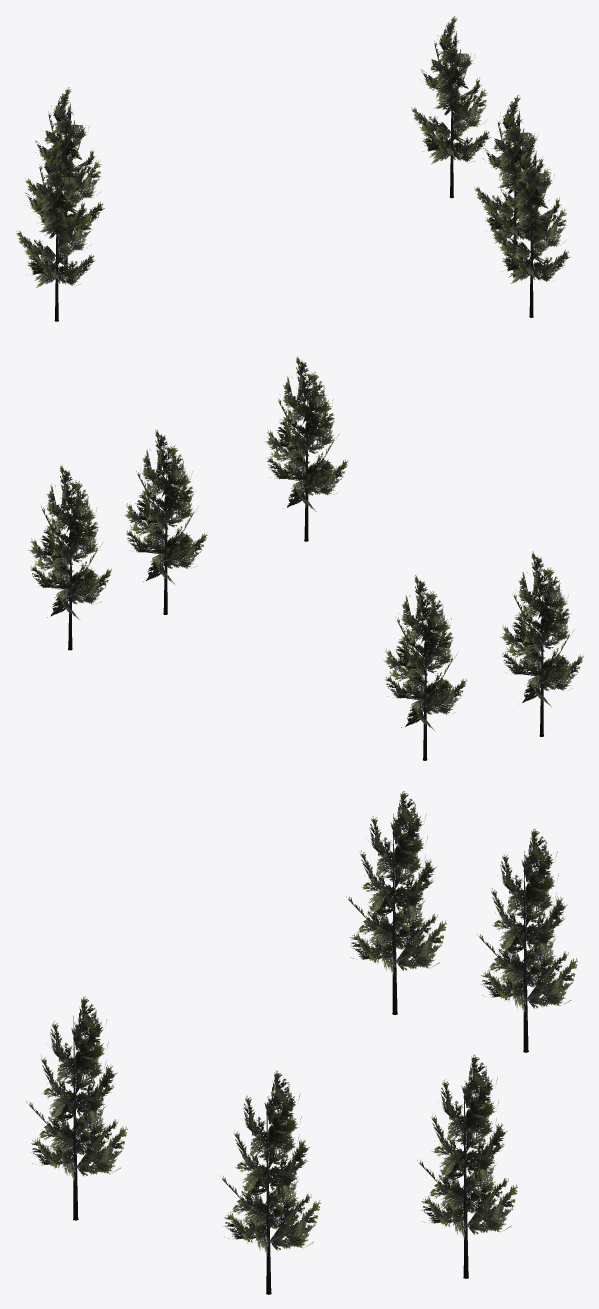
File: trees_ce.fbx
3 views of the same model, one above another, from view 1: azimuth 30°, elevation 25°; view 2: azimuth 150°, elevation 25°; view 3: azimuth 270°, elevation 25° (orthographic). The views are drawn at different scales.
Visible parts, largest first — view 1: polySurface24, polySurface65; view 2: polySurface24, polySurface65; view 3: polySurface24, polySurface65.
Boxes of the visible parts, bbox=[...] form: polySurface24: bbox=[411, 16, 570, 317]; polySurface65: bbox=[16, 87, 104, 321]; polySurface24: bbox=[28, 356, 348, 650]; polySurface65: bbox=[383, 551, 583, 760]; polySurface24: bbox=[26, 996, 517, 1294]; polySurface65: bbox=[346, 791, 577, 1052].
Size of the model in its own units: 5776 by 2269 by 4407.
Materials: 2 (1 with a texture image).
